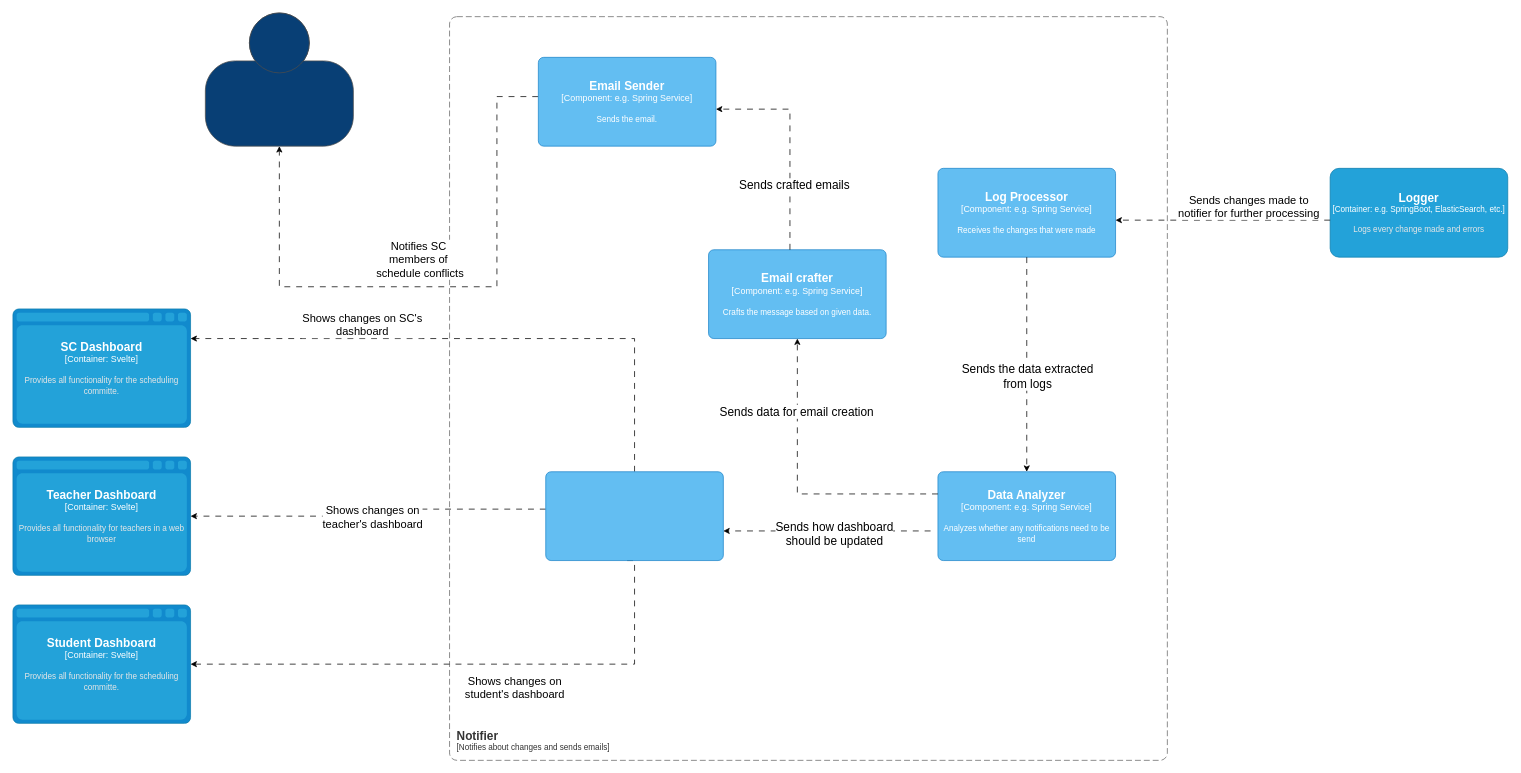
Some shapes in this 1521 by 773 pixel diagram are drawn without their labels. The shapes that lost their labels are listed below. From the top down, each one's centre as x and y in pixels, then its label:
(279,79): Scheduling committe [Person] Manages and edits schedules.
(634,516): Dashboard Updater [Component: Websocket Technology] Updates the dashboards
